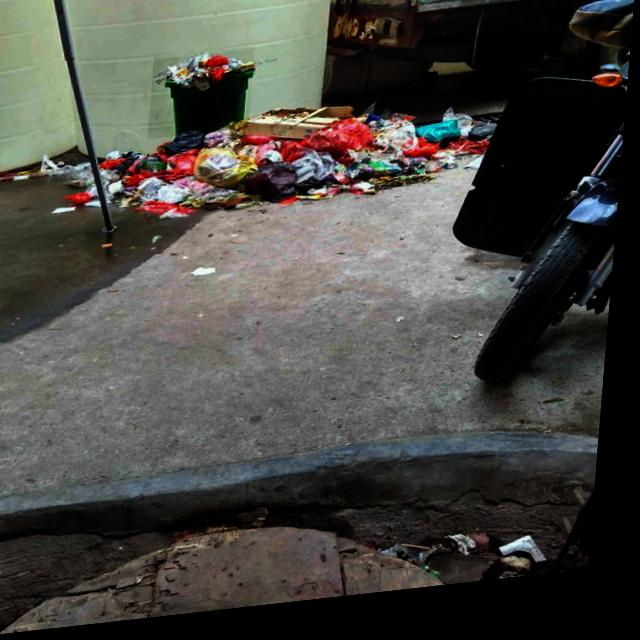garbage: (0, 95, 503, 240)
overflow: (150, 52, 256, 143)
